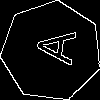A: (26, 26, 76, 66)
